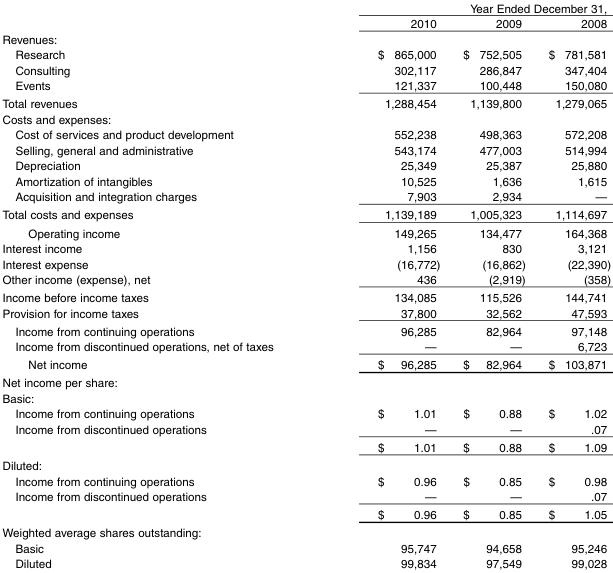table: (1, 0, 610, 569)
table column: (1, 0, 324, 569), (324, 0, 450, 569), (450, 0, 536, 569), (536, 0, 610, 569)
table column header: (1, 0, 610, 30)
table projected row header: (1, 373, 610, 390), (1, 455, 610, 472), (1, 30, 610, 46), (1, 110, 610, 126), (1, 523, 610, 539), (1, 390, 610, 405)
table row: (1, 205, 610, 223), (1, 355, 610, 373), (1, 437, 610, 455), (1, 505, 610, 523), (1, 77, 610, 94), (1, 188, 610, 205), (1, 223, 610, 240), (1, 287, 610, 304), (1, 304, 610, 321), (1, 321, 610, 338), (1, 338, 610, 355), (1, 373, 610, 390), (1, 455, 610, 472), (1, 488, 610, 505), (1, 30, 610, 46), (1, 61, 610, 77), (1, 94, 610, 110), (1, 110, 610, 126), (1, 141, 610, 157), (1, 172, 610, 188), (1, 255, 610, 271), (1, 271, 610, 287), (1, 405, 610, 421), (1, 421, 610, 437), (1, 472, 610, 488), (1, 523, 610, 539), (1, 539, 610, 555), (1, 0, 610, 15), (1, 15, 610, 30), (1, 46, 610, 61), (1, 126, 610, 141), (1, 157, 610, 172), (1, 240, 610, 255), (1, 390, 610, 405), (1, 555, 610, 569)
table spanning cell: (324, 0, 610, 15)
